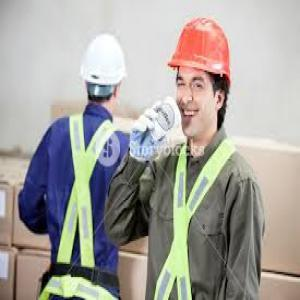red: (170, 17, 232, 139)
white: (82, 32, 126, 113)
